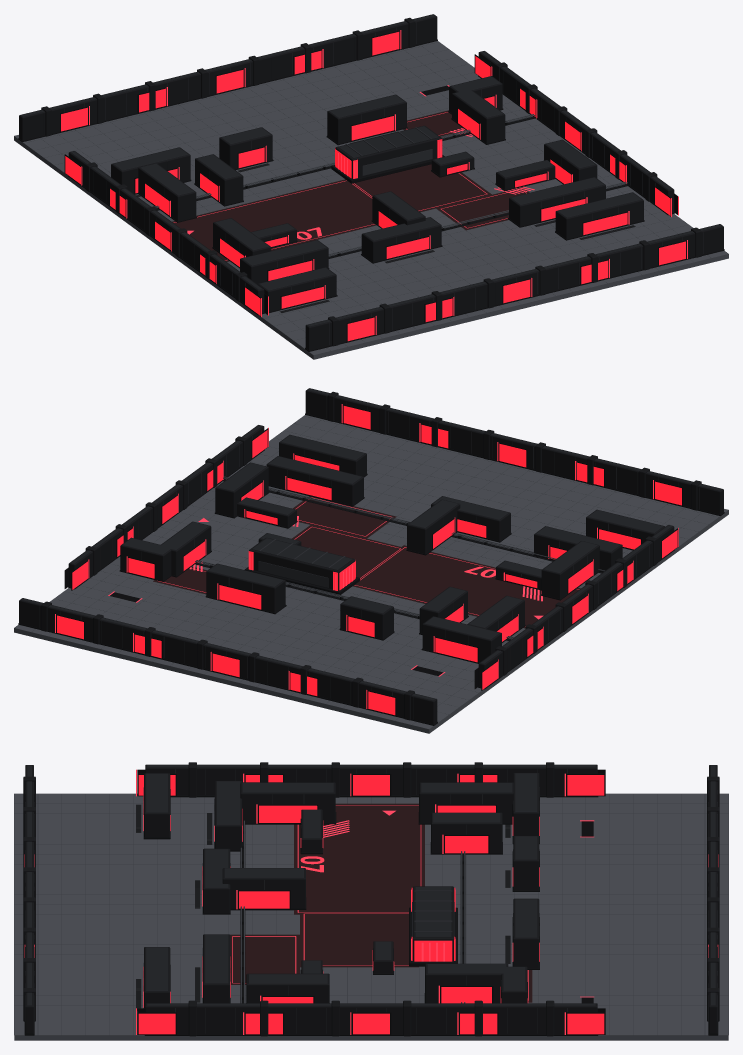
File: arena_black.glb
3 renders of one model, top to bottom at view 1: azimuth 30°, elevation 25°; view 2: azimuth 150°, elevation 25°; view 3: azimuth 270°, elevation 25°, orthographic. The views are drawn at different scales.
Parts seen in each view (by area): view 1: ArenaProps.001, ArenaFloor.001; view 2: ArenaProps.001, ArenaFloor.001; view 3: ArenaFloor.001, ArenaProps.001.
Boxes of the visible parts, x1,y1,x2,y2 form: ArenaProps.001: (18, 14, 724, 351); ArenaFloor.001: (14, 41, 728, 359); ArenaProps.001: (18, 388, 724, 725); ArenaFloor.001: (14, 415, 728, 733); ArenaFloor.001: (14, 793, 728, 1040); ArenaProps.001: (23, 762, 719, 1036).
Bounding box in the file's own units: 48.45 × 3.41 × 60.03.
